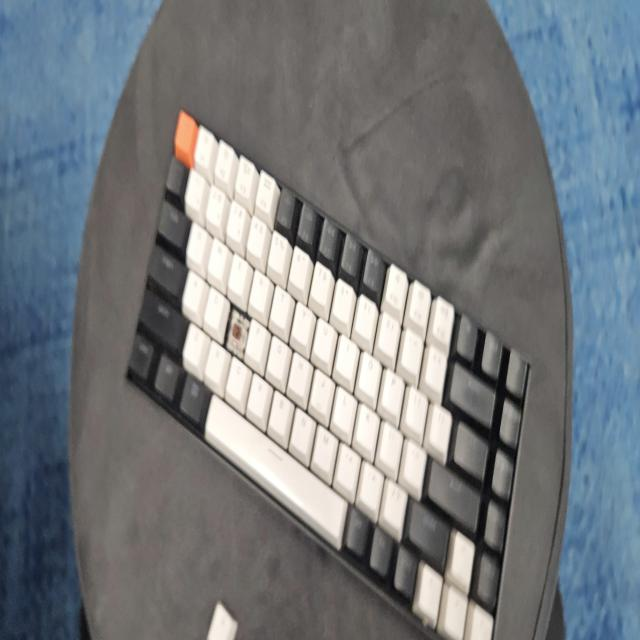C: (228, 314, 245, 348)
